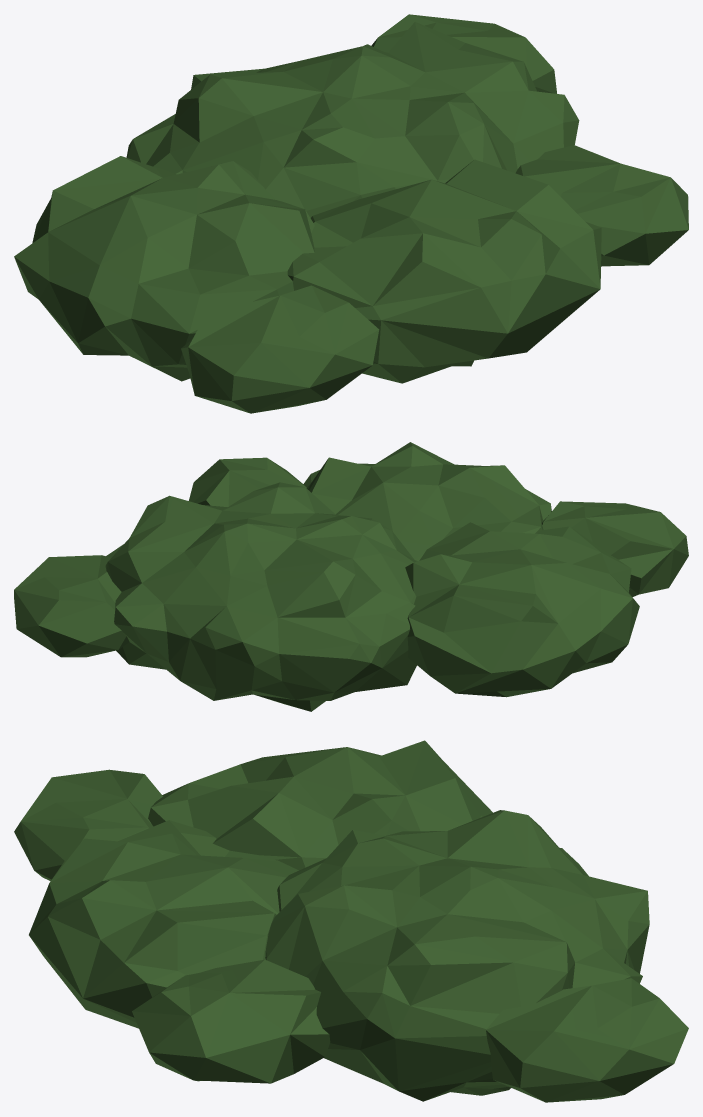
Rendered from SM_Env_Tree_Canopy_01.glb.
3 views of the same model, one above another, from view 1: azimuth 30°, elevation 25°; view 2: azimuth 150°, elevation 25°; view 3: azimuth 270°, elevation 25° (orthographic). The views are drawn at different scales.
Parts seen in each view (by area): view 1: SM_Env_Tree_Canopy_01; view 2: SM_Env_Tree_Canopy_01; view 3: SM_Env_Tree_Canopy_01.
Boxes of the visible parts, left/top/right/bottom form: SM_Env_Tree_Canopy_01: left=14, top=14, right=688, bottom=413; SM_Env_Tree_Canopy_01: left=14, top=442, right=688, bottom=711; SM_Env_Tree_Canopy_01: left=14, top=740, right=688, bottom=1102.
Size of the model in its own units: 0.1381 by 0.0454 by 0.1314.
